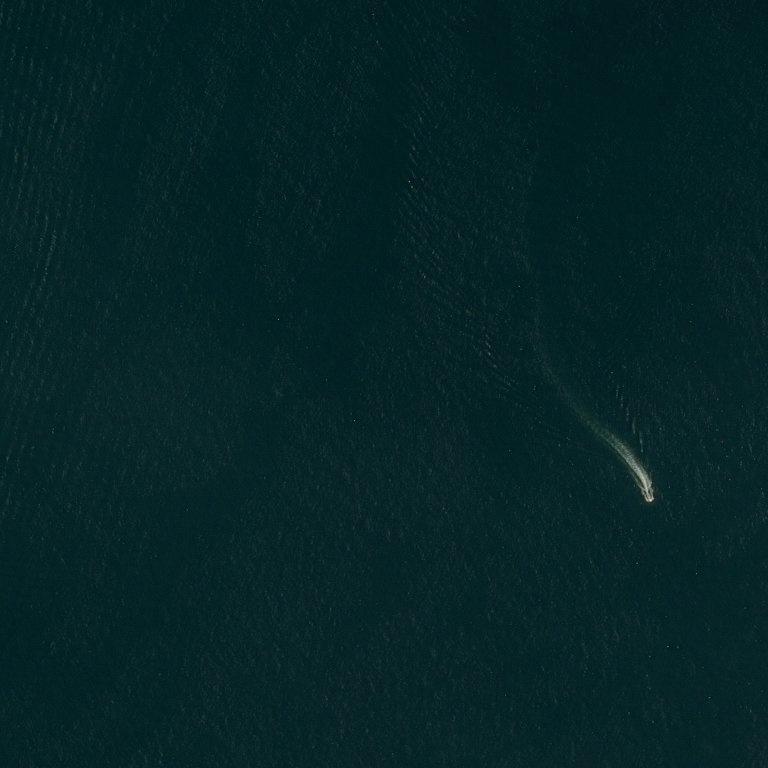ship: (645, 487, 651, 503), (648, 500, 651, 501), (642, 490, 643, 493), (651, 466, 653, 467)
